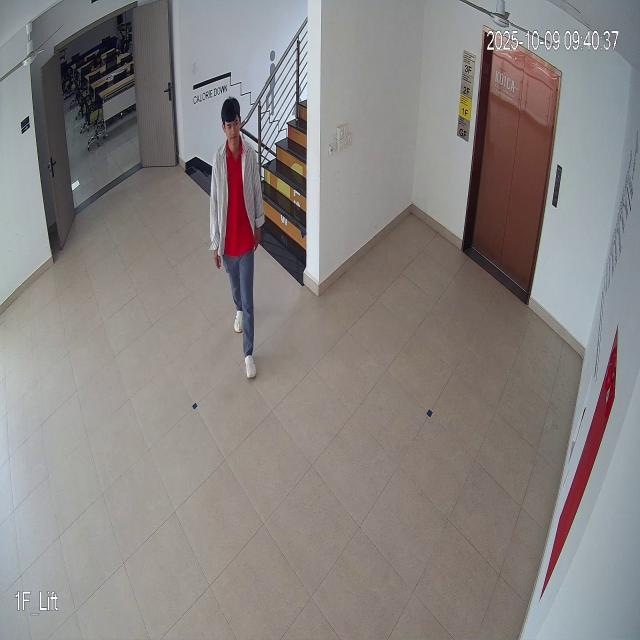face: (222, 98, 243, 156)
